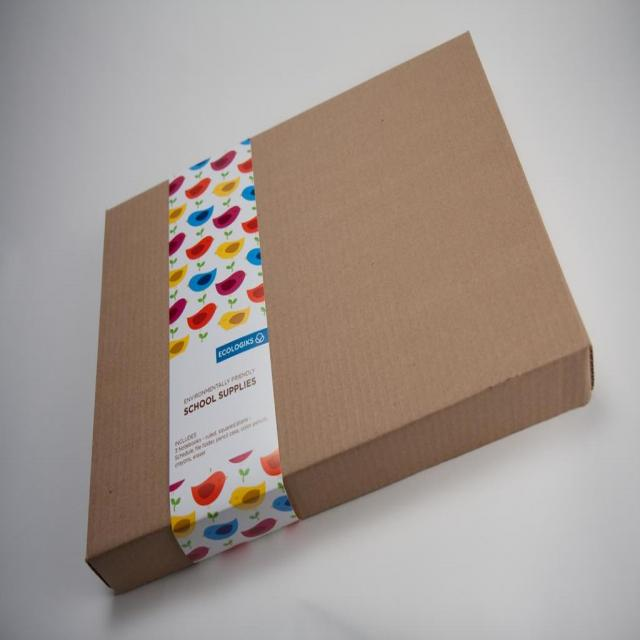Box: (85, 30, 594, 595)
